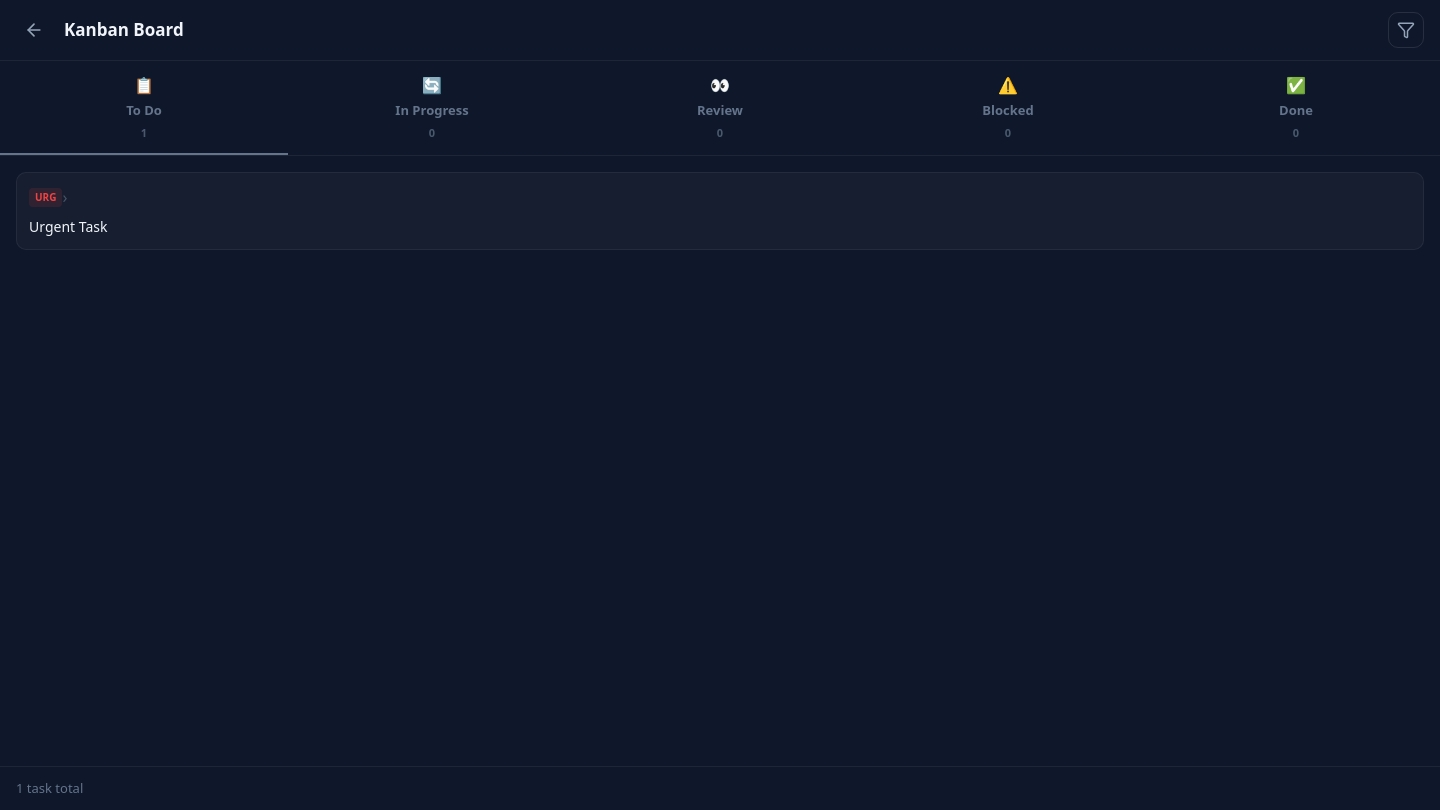
Test: MobileKanbanPanel › task detail modal › shows task priority in detail modal
Click the button "URG › Urgent Task": point(46, 197) [16,172,1424,250]
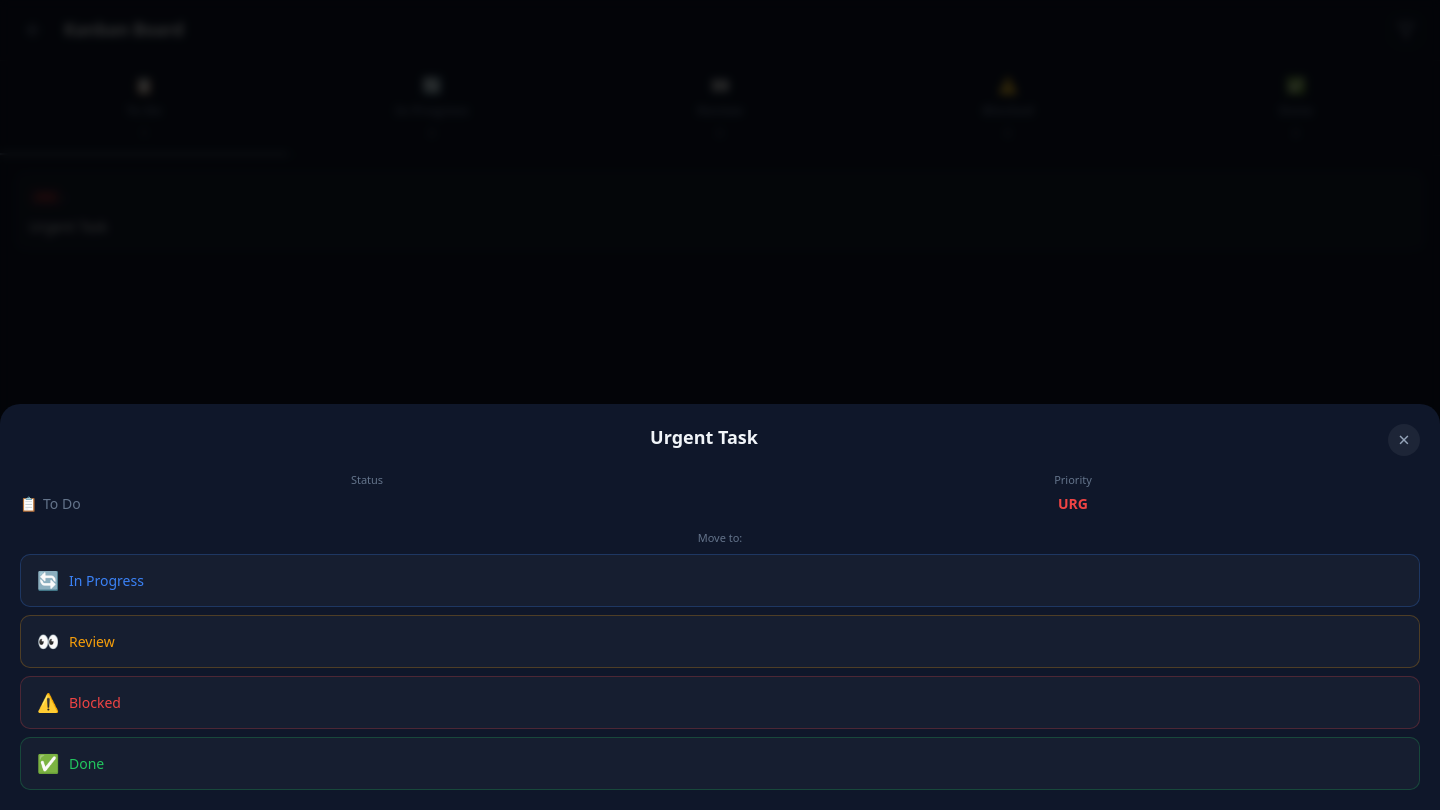
Expected: the text "Priority" is shown, [1054,472,1092,487]
